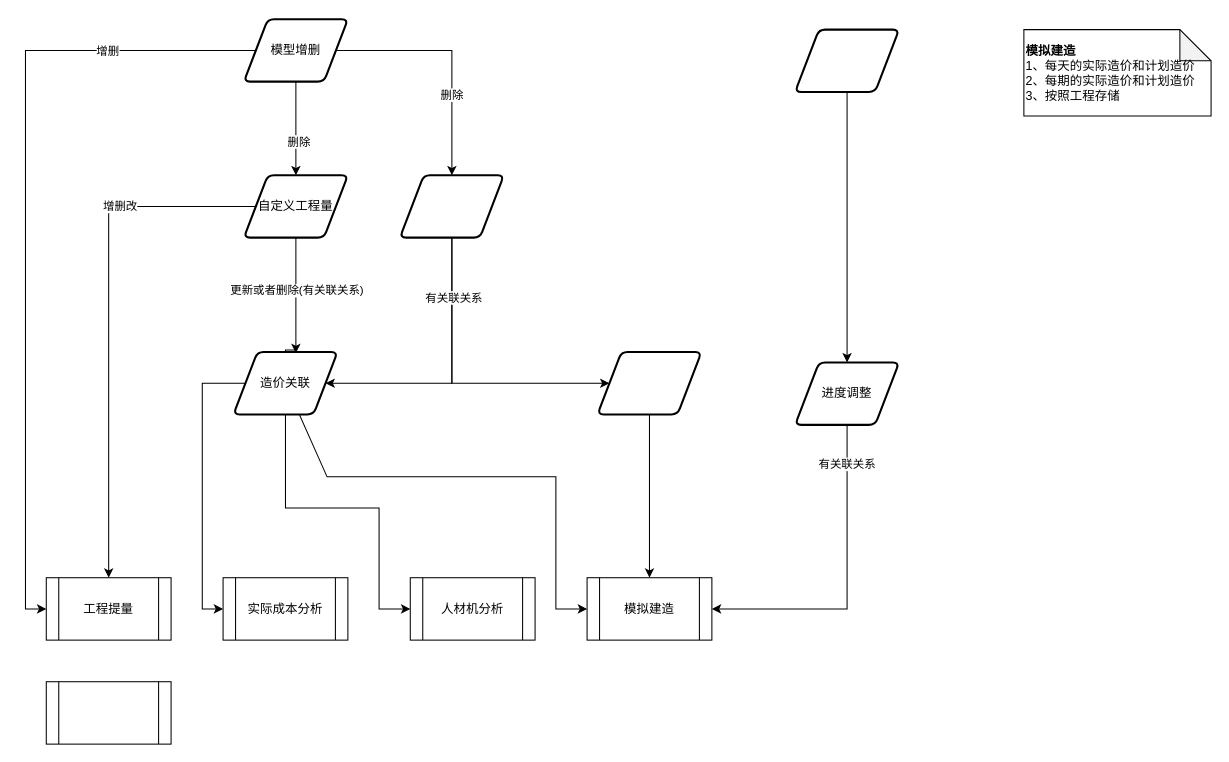
Some shapes in this 1229 by 762 pixel diagram are drawn without their labels. The shapes that lost their labels are listed below. From the top down, each one's centre as x and y in pixels, then its label:
At [847,60]: "进度任务回写".
At [451,206]: "版本变更".
At [649,382]: "进度关联".
At [108,712]: "装配式".
